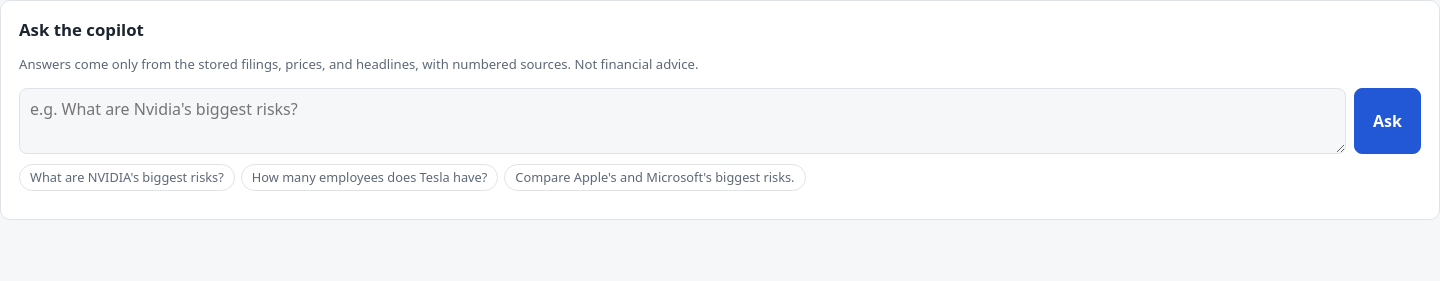
Test: CopilotBox › shows the API's message when the AI model is offline
Type "What are the risks?" into the text box named "Your question" at (683, 121), box [19,88,1346,154]
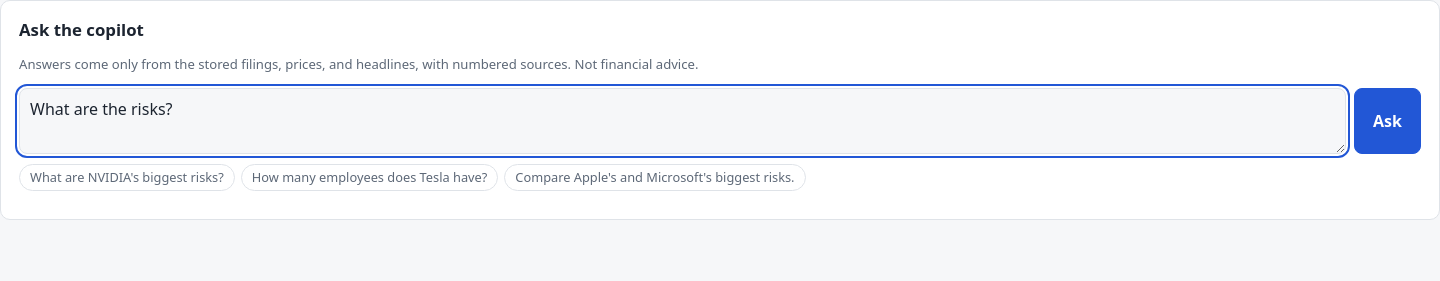
Click the button "Ask" at (1388, 121), box [1354,88,1421,154]
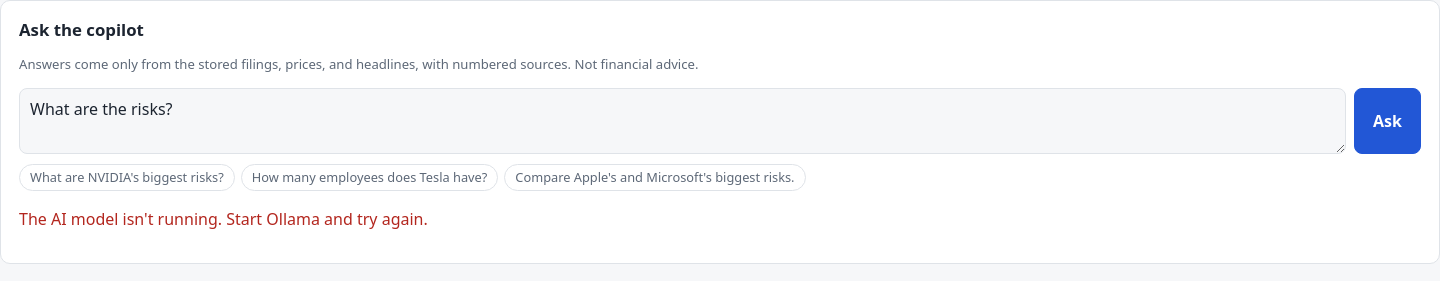
Expected: the message shows "Start Ollama", [19,208,428,230]
